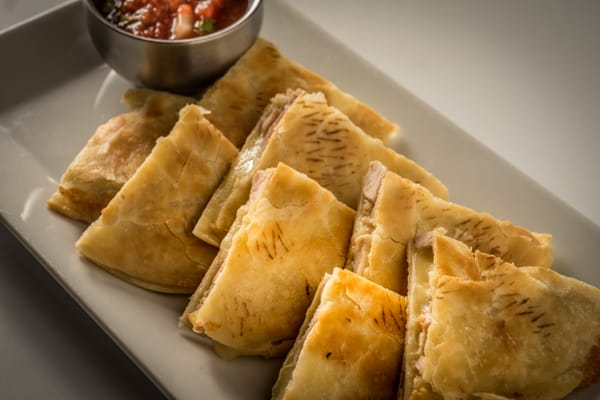soup: (54, 92, 244, 292)
sushi: (84, 0, 265, 92)
